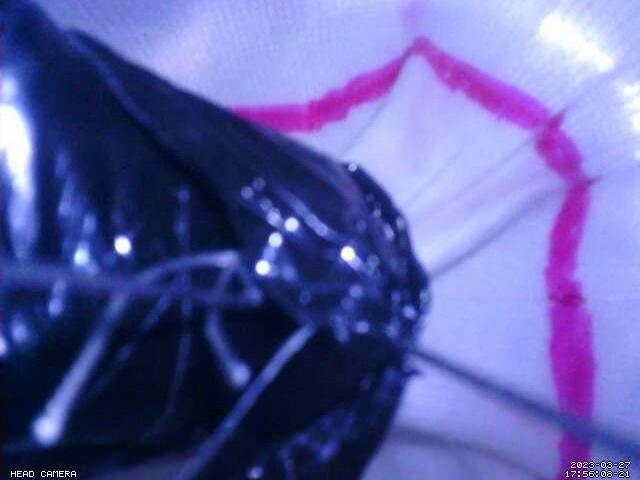red-circle: (228, 33, 597, 480)
